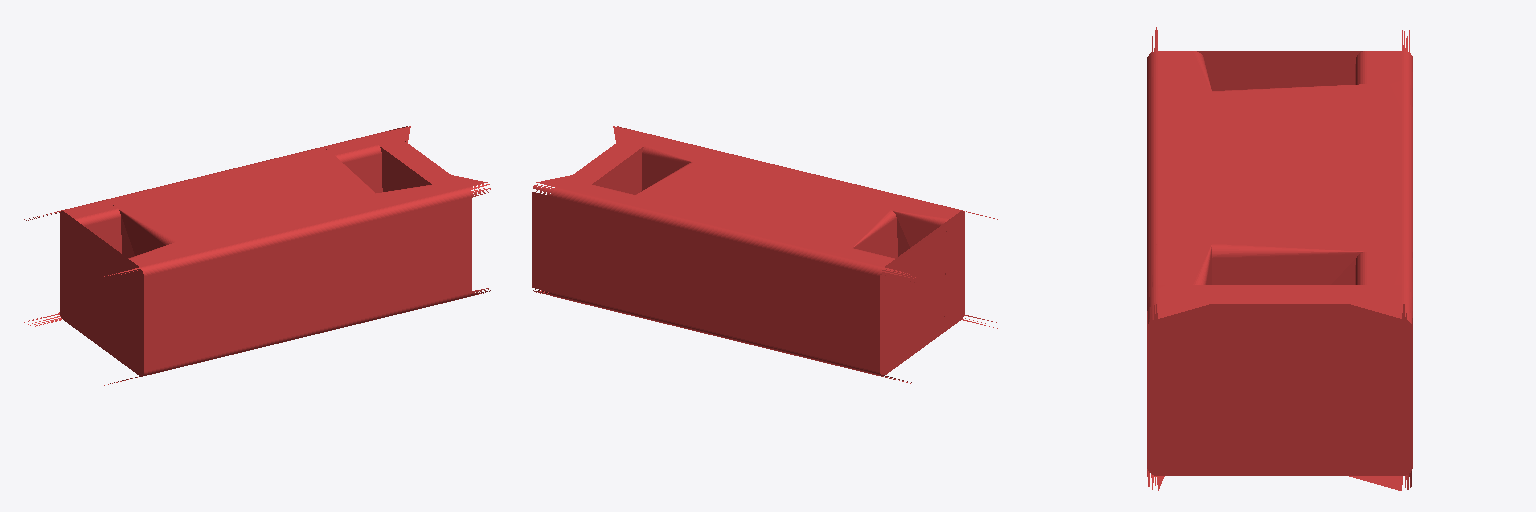
The robot description file, URDF, robot "fixture_beam_3x_part_2":
<?xml version="1.0" encoding="utf-8"?>
<robot name="fixture_beam_3x_part_2">
  <link name="root"/>
  <material name="part_6">
    <color rgba="0.8500 0.3000 0.3000 1.0000"/>
  </material>
  <link name="part_6">
    <visual>
      <origin xyz="0 0 0" rpy="0 0 0"/>
      <geometry>
        <mesh filename="../6/coacd/decomp_1.obj" scale="1 1 1"/>
      </geometry>
      <material name="part_6"/>
    </visual>
    <collision>
      <origin xyz="0 0 0" rpy="0 0 0"/>
      <geometry>
        <mesh filename="../6/coacd/decomp_1.obj" scale="1 1 1"/>
      </geometry>
    </collision>
    <visual>
      <origin xyz="0 0 0" rpy="0 0 0"/>
      <geometry>
        <mesh filename="../6/coacd/decomp_10.obj" scale="1 1 1"/>
      </geometry>
      <material name="part_6"/>
    </visual>
    <collision>
      <origin xyz="0 0 0" rpy="0 0 0"/>
      <geometry>
        <mesh filename="../6/coacd/decomp_10.obj" scale="1 1 1"/>
      </geometry>
    </collision>
    <visual>
      <origin xyz="0 0 0" rpy="0 0 0"/>
      <geometry>
        <mesh filename="../6/coacd/decomp_11.obj" scale="1 1 1"/>
      </geometry>
      <material name="part_6"/>
    </visual>
    <collision>
      <origin xyz="0 0 0" rpy="0 0 0"/>
      <geometry>
        <mesh filename="../6/coacd/decomp_11.obj" scale="1 1 1"/>
      </geometry>
    </collision>
    <visual>
      <origin xyz="0 0 0" rpy="0 0 0"/>
      <geometry>
        <mesh filename="../6/coacd/decomp_2.obj" scale="1 1 1"/>
      </geometry>
      <material name="part_6"/>
    </visual>
    <collision>
      <origin xyz="0 0 0" rpy="0 0 0"/>
      <geometry>
        <mesh filename="../6/coacd/decomp_2.obj" scale="1 1 1"/>
      </geometry>
    </collision>
    <visual>
      <origin xyz="0 0 0" rpy="0 0 0"/>
      <geometry>
        <mesh filename="../6/coacd/decomp_4.obj" scale="1 1 1"/>
      </geometry>
      <material name="part_6"/>
    </visual>
    <collision>
      <origin xyz="0 0 0" rpy="0 0 0"/>
      <geometry>
        <mesh filename="../6/coacd/decomp_4.obj" scale="1 1 1"/>
      </geometry>
    </collision>
    <visual>
      <origin xyz="0 0 0" rpy="0 0 0"/>
      <geometry>
        <mesh filename="../6/coacd/decomp_5.obj" scale="1 1 1"/>
      </geometry>
      <material name="part_6"/>
    </visual>
    <collision>
      <origin xyz="0 0 0" rpy="0 0 0"/>
      <geometry>
        <mesh filename="../6/coacd/decomp_5.obj" scale="1 1 1"/>
      </geometry>
    </collision>
    <visual>
      <origin xyz="0 0 0" rpy="0 0 0"/>
      <geometry>
        <mesh filename="../6/coacd/decomp_6.obj" scale="1 1 1"/>
      </geometry>
      <material name="part_6"/>
    </visual>
    <collision>
      <origin xyz="0 0 0" rpy="0 0 0"/>
      <geometry>
        <mesh filename="../6/coacd/decomp_6.obj" scale="1 1 1"/>
      </geometry>
    </collision>
    <visual>
      <origin xyz="0 0 0" rpy="0 0 0"/>
      <geometry>
        <mesh filename="../6/coacd/decomp_8.obj" scale="1 1 1"/>
      </geometry>
      <material name="part_6"/>
    </visual>
    <collision>
      <origin xyz="0 0 0" rpy="0 0 0"/>
      <geometry>
        <mesh filename="../6/coacd/decomp_8.obj" scale="1 1 1"/>
      </geometry>
    </collision>
    <visual>
      <origin xyz="0 0 0" rpy="0 0 0"/>
      <geometry>
        <mesh filename="../6/coacd/decomp_9.obj" scale="1 1 1"/>
      </geometry>
      <material name="part_6"/>
    </visual>
    <collision>
      <origin xyz="0 0 0" rpy="0 0 0"/>
      <geometry>
        <mesh filename="../6/coacd/decomp_9.obj" scale="1 1 1"/>
      </geometry>
    </collision>
  </link>
  <joint name="root_to_part_6" type="fixed">
    <parent link="root"/>
    <child link="part_6"/>
    <origin xyz="-0.000000 -0.000000 0.018998" rpy="0.000000 0.000000 0.000000"/>
  </joint>
</robot>

--- Facts derived from the render (not from the file) ---
Views: 3 orthographic renders of the robot side by side, from view 1: azimuth 30°, elevation 25°; view 2: azimuth 150°, elevation 25°; view 3: azimuth 270°, elevation 25°.
Model fixture_beam_3x_part_2 with 2 links and 1 joints (1 fixed), rooted at root, posed all joints at 0.
Links seen in each view (by area): view 1: part_6; view 2: part_6; view 3: part_6.
Boxes of the visible links, <box> form: part_6: <box>24,126,490,385</box>; part_6: <box>532,126,997,383</box>; part_6: <box>1147,27,1412,490</box>.
Size in the robot's own frame: 0.1415 by 0.0533 by 0.0381 metres.
Meshes: 9 distinct files referenced, 9 mesh visuals loaded (9 OBJ).
